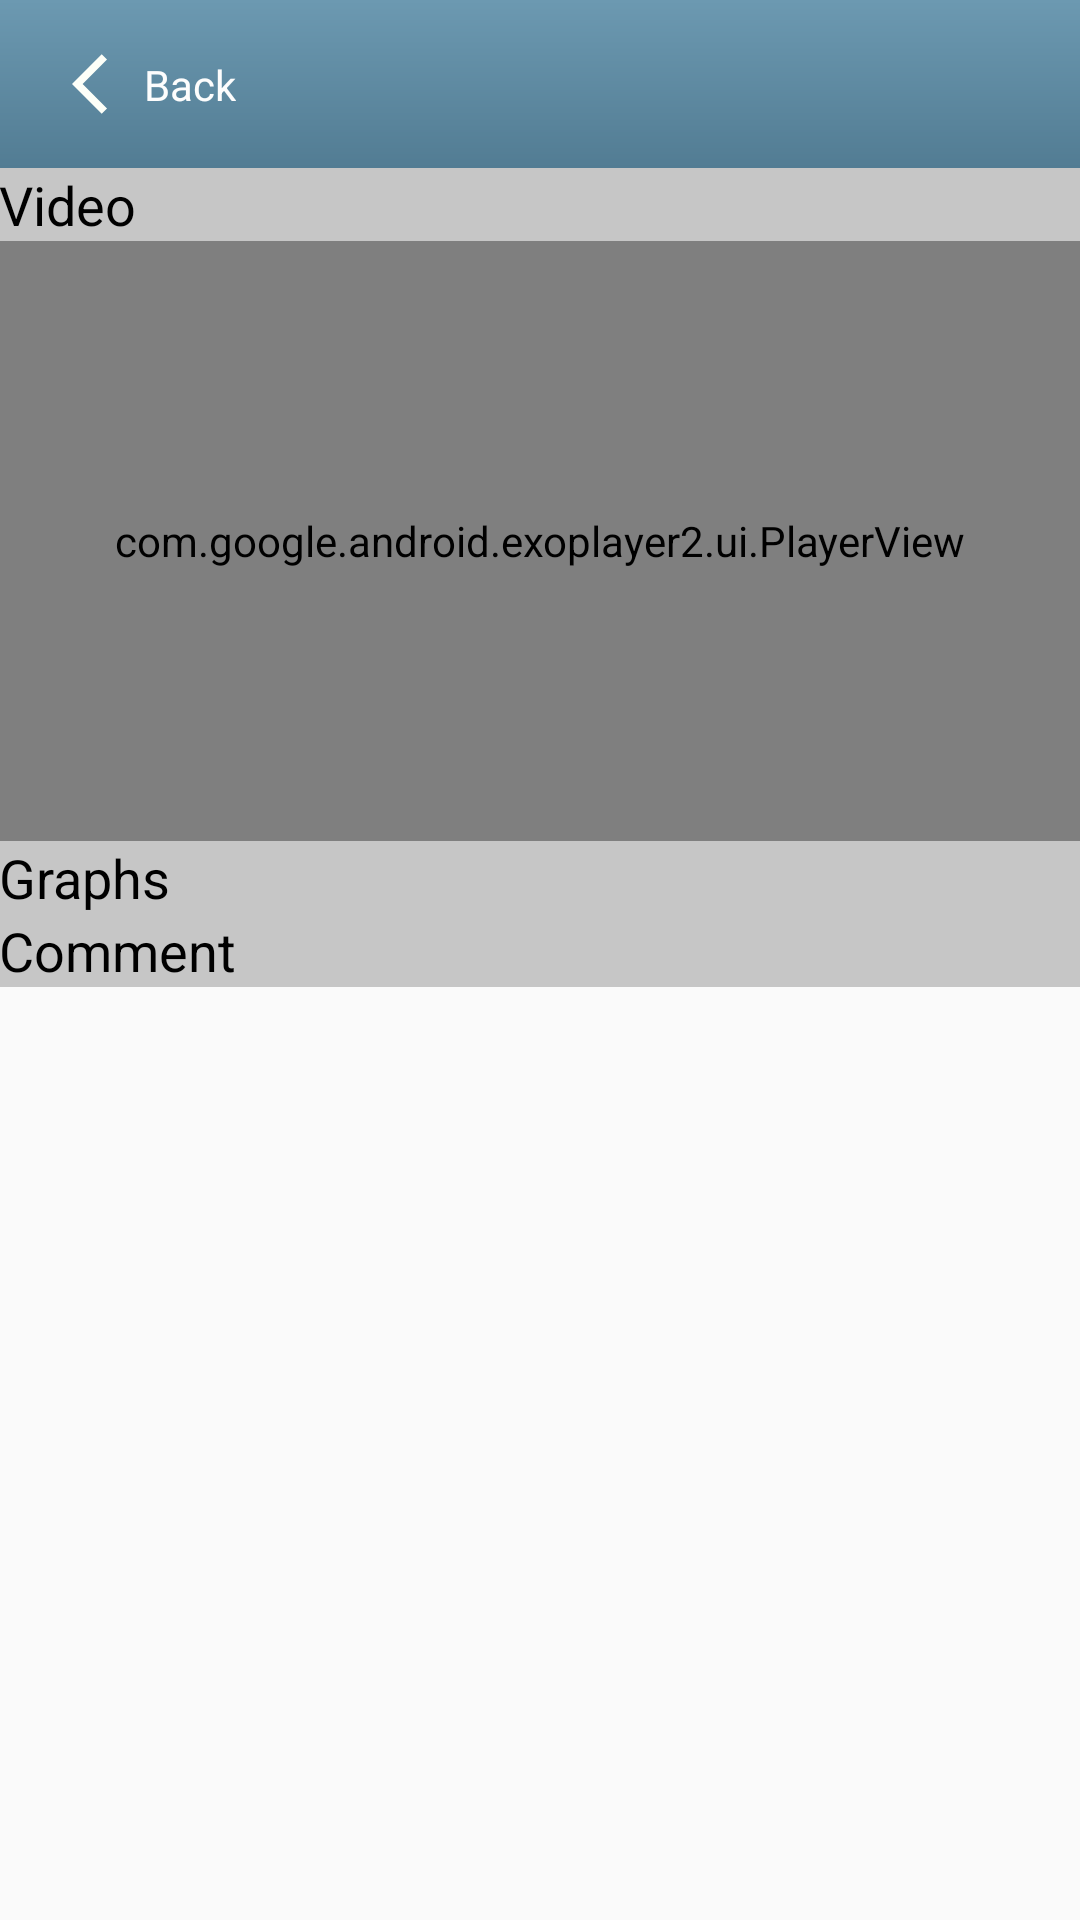

Locate icon controls on the screen. Image size 1080*1920, boxes as (x1, y1, x2, y2).
arrow: (72, 54, 107, 114)
